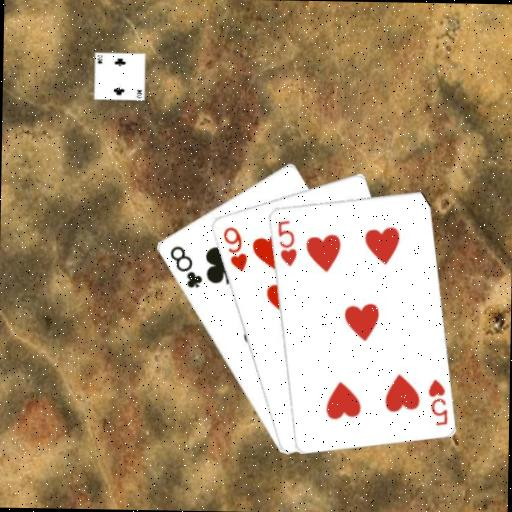5H: (424, 376, 450, 427), (274, 217, 299, 268)
8C: (166, 242, 204, 290)
9H: (219, 223, 249, 273)
